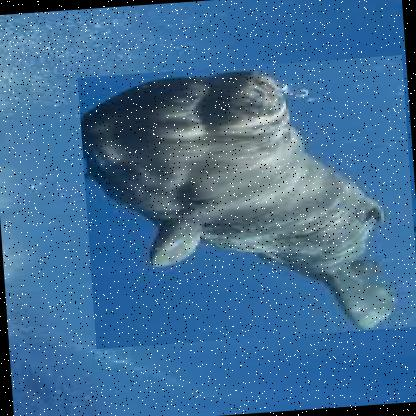sperm_whale: (78, 54, 415, 350)
